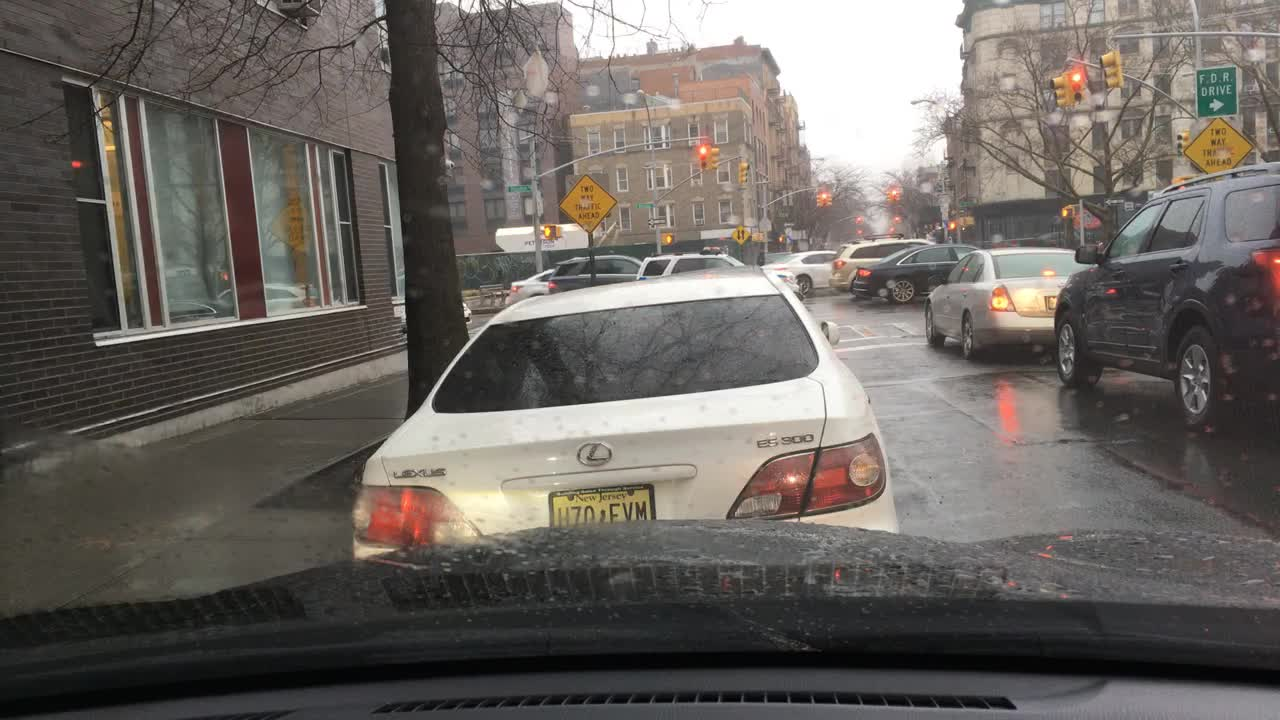car: (351, 267, 899, 561), (1049, 163, 1279, 429), (922, 247, 1100, 361), (855, 244, 983, 305), (636, 253, 801, 300), (832, 240, 939, 296), (766, 248, 838, 299), (547, 254, 642, 291), (505, 270, 557, 303), (459, 296, 476, 325)
traffic light: (1099, 46, 1121, 88), (1050, 74, 1066, 107), (1172, 129, 1189, 157), (1070, 71, 1084, 103), (695, 144, 709, 170), (542, 222, 558, 242), (736, 162, 748, 184), (711, 147, 719, 172), (957, 217, 975, 227), (662, 232, 675, 245), (1060, 207, 1074, 217), (826, 192, 833, 208), (777, 233, 787, 244), (814, 192, 821, 207), (821, 192, 826, 207), (890, 188, 895, 200)
traffic sign: (1180, 121, 1250, 173), (557, 174, 616, 232), (1192, 66, 1239, 119), (731, 225, 751, 243), (505, 184, 534, 194), (758, 215, 771, 232), (647, 217, 666, 228), (635, 202, 655, 212), (955, 198, 975, 207)
